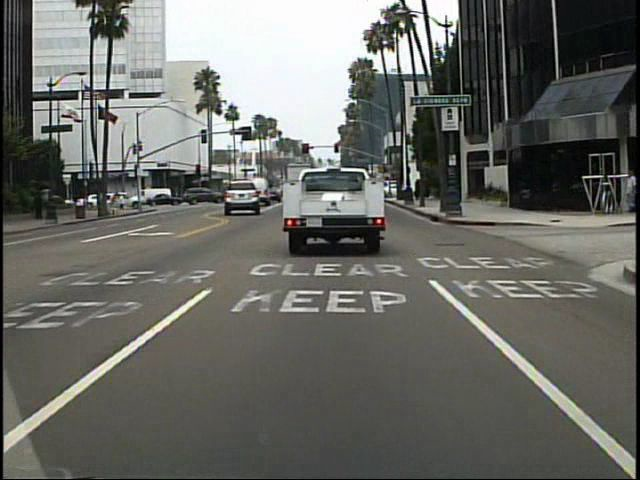person: (624, 169, 634, 214), (117, 189, 130, 215)
